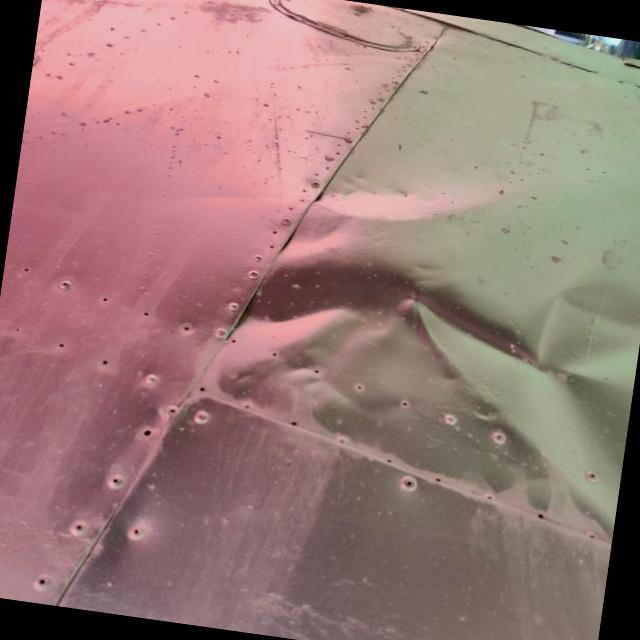dent: (175, 131, 640, 549)
